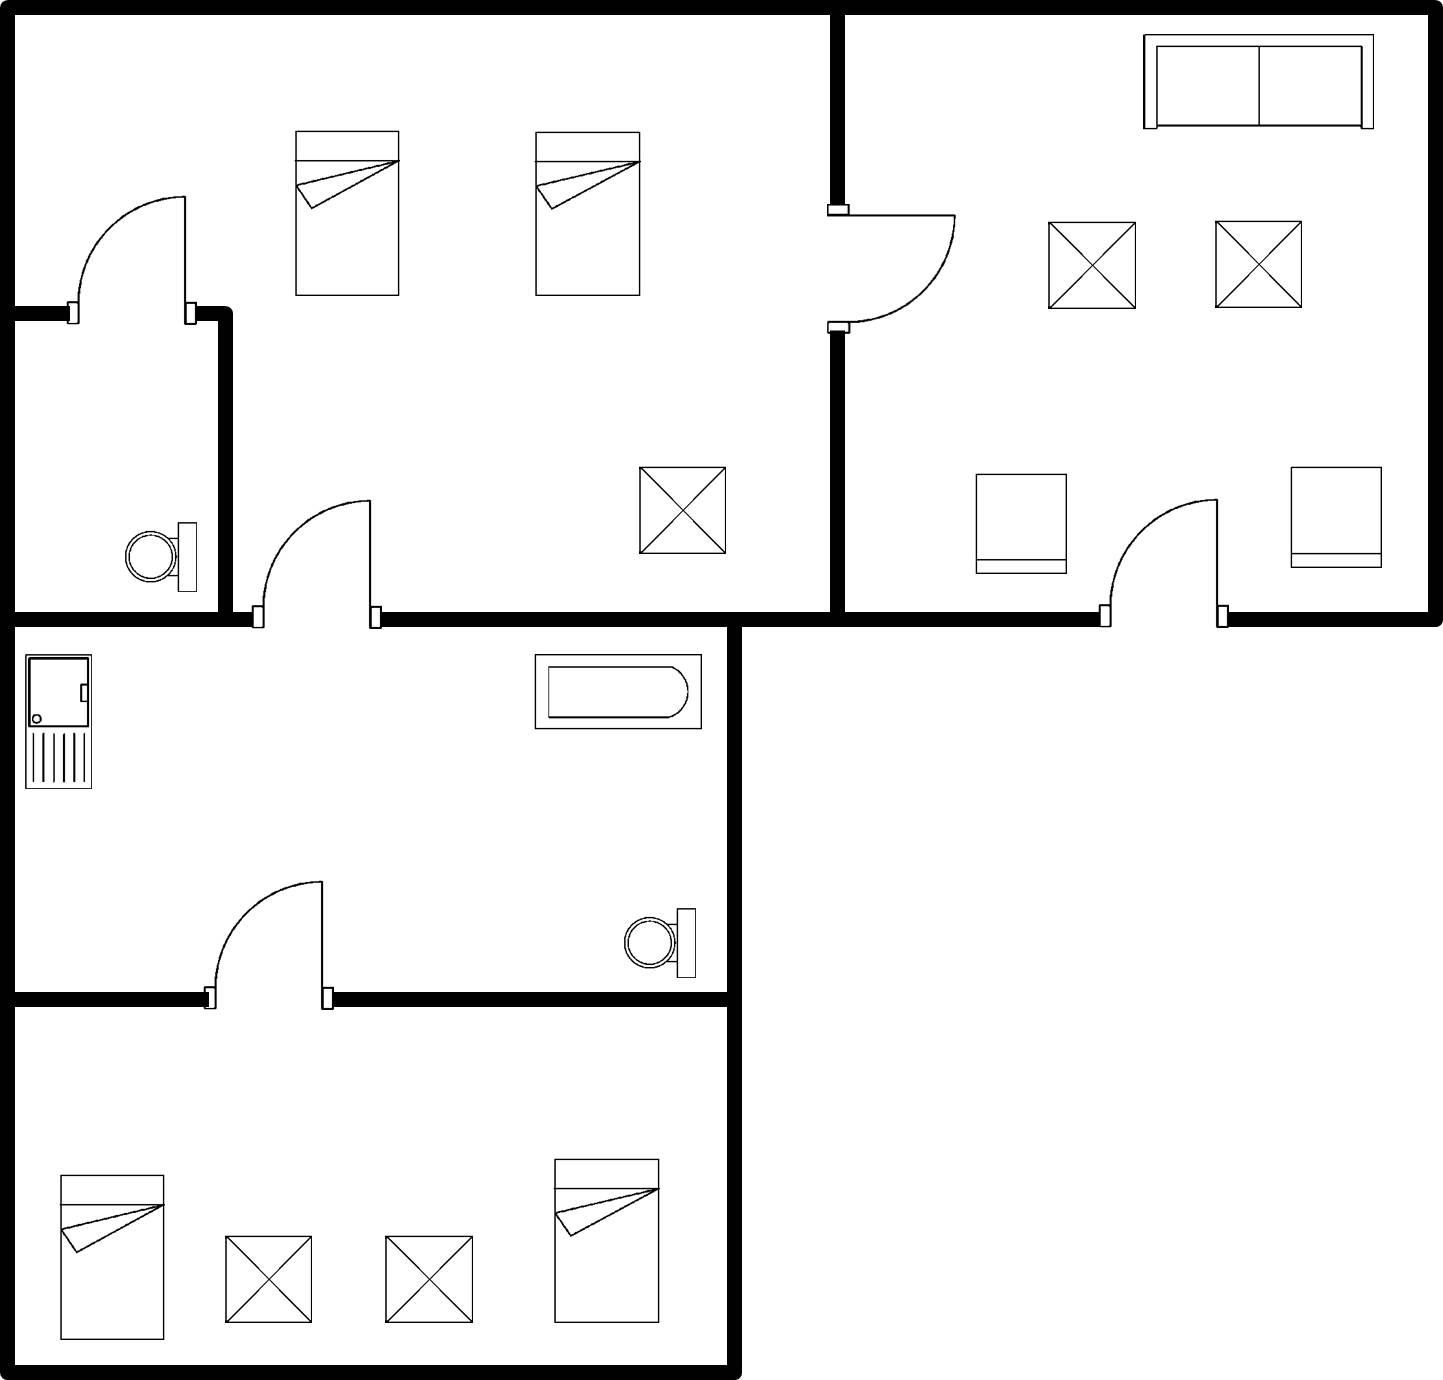bed: (280, 117, 408, 305), (523, 122, 649, 303), (542, 1152, 665, 1337), (53, 1165, 173, 1348)
sink: (19, 644, 100, 796)
sofa: (1131, 24, 1382, 146)
toilet: (111, 506, 204, 606), (611, 896, 703, 984)
tub: (523, 642, 709, 741)
